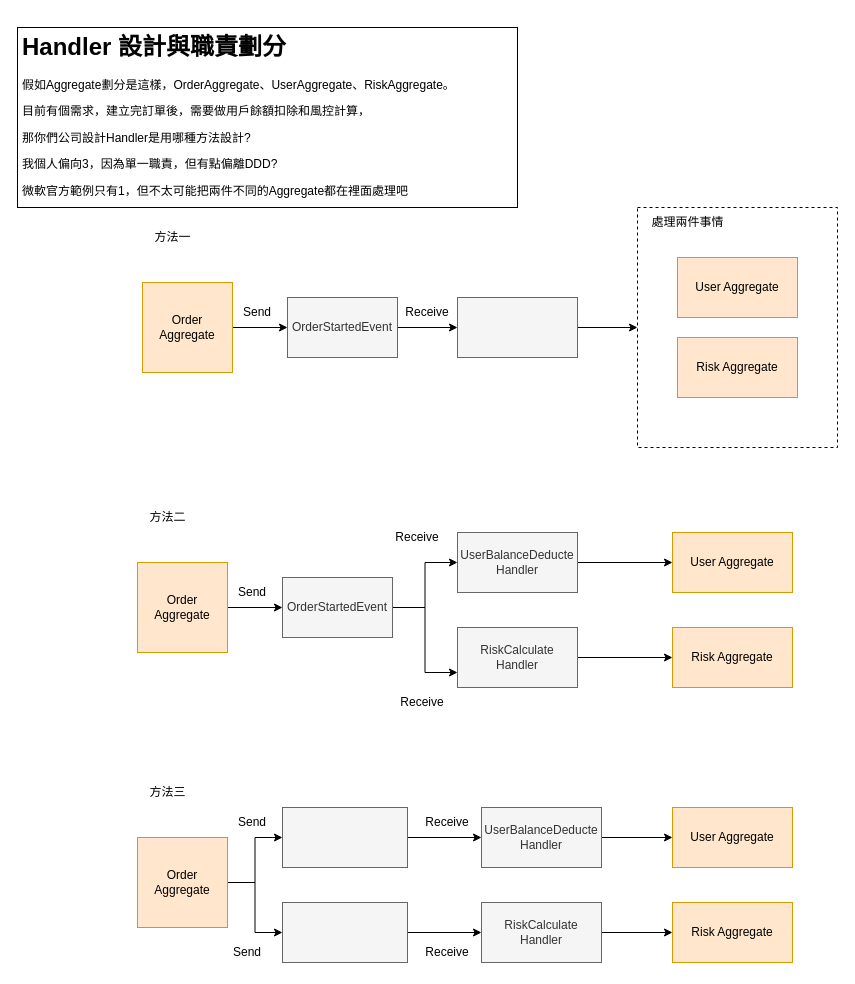
This 855x984 diagram has some shape labels left out. Each missing label, with the centre of its shape:
"OrderStartedHandler" goes at (x=517, y=327).
"RiskCalculateEvent" goes at (x=345, y=932).
"UserBalanceDeducte Event" goes at (x=345, y=837).
